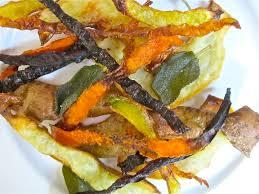Organic: (1, 1, 259, 192)
